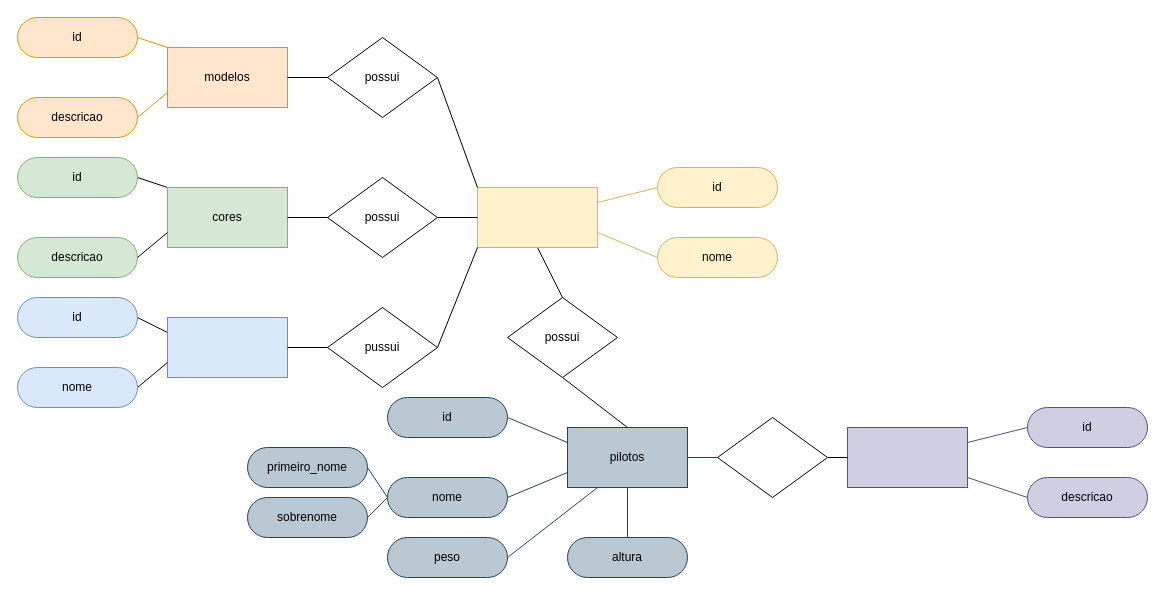
This 1165x595 diagram has some shape labels left out. The centre of each missing label's shape, as x and y in pixels:
carros: point 537,217
equipes: point 227,347
patentes: point 907,457
tem: point 772,457
